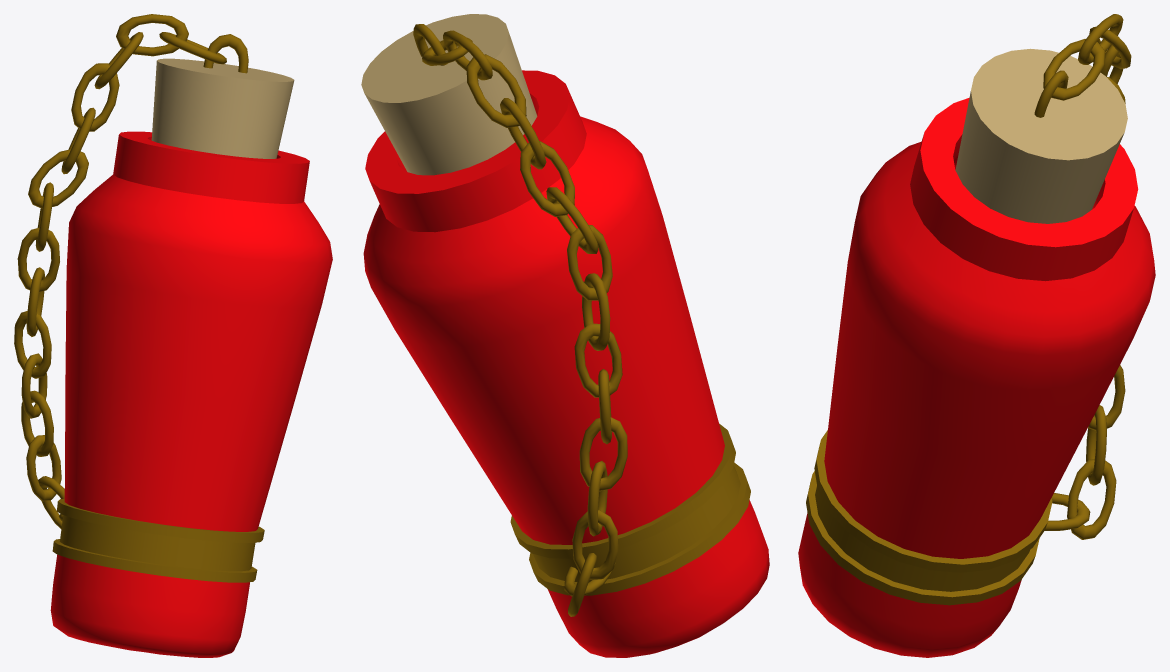
File: health_potion.glb
3 views of the same model, side by side, from view 1: azimuth 30°, elevation 25°; view 2: azimuth 150°, elevation 25°; view 3: azimuth 270°, elevation 25° (orthographic). The views are drawn at different scales.
Parts seen in each view (by area): view 1: HealthPotion; view 2: HealthPotion; view 3: HealthPotion.
Part boxes in pixels (x1,y1,x2,y2): HealthPotion: (14,14,332,657); HealthPotion: (361,14,769,657); HealthPotion: (798,14,1155,657).
Size of what is drawn, in the model's own units: 0.355 by 0.6685 by 0.3302.
